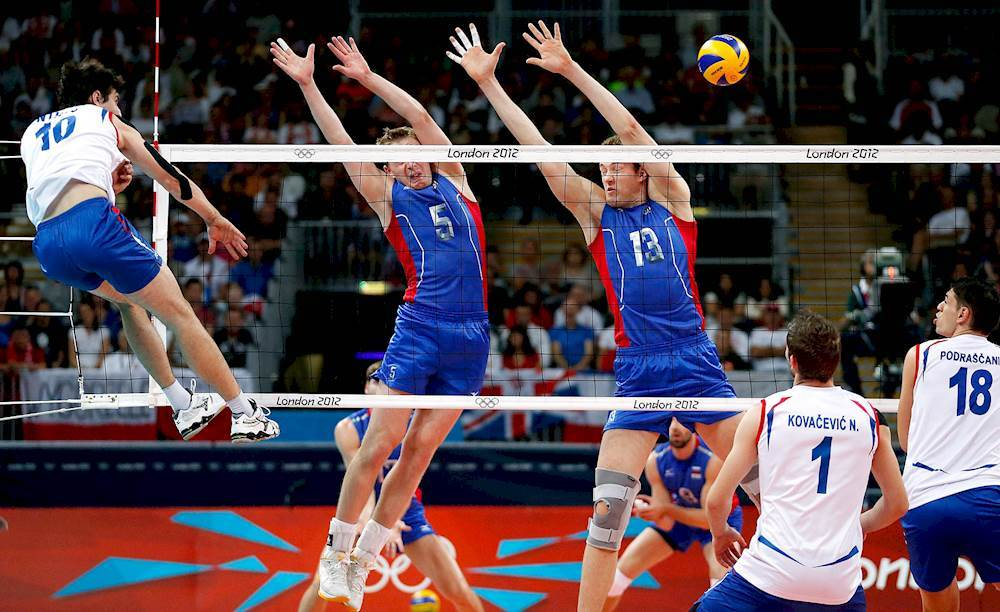volleyball: (699, 32, 750, 87)
